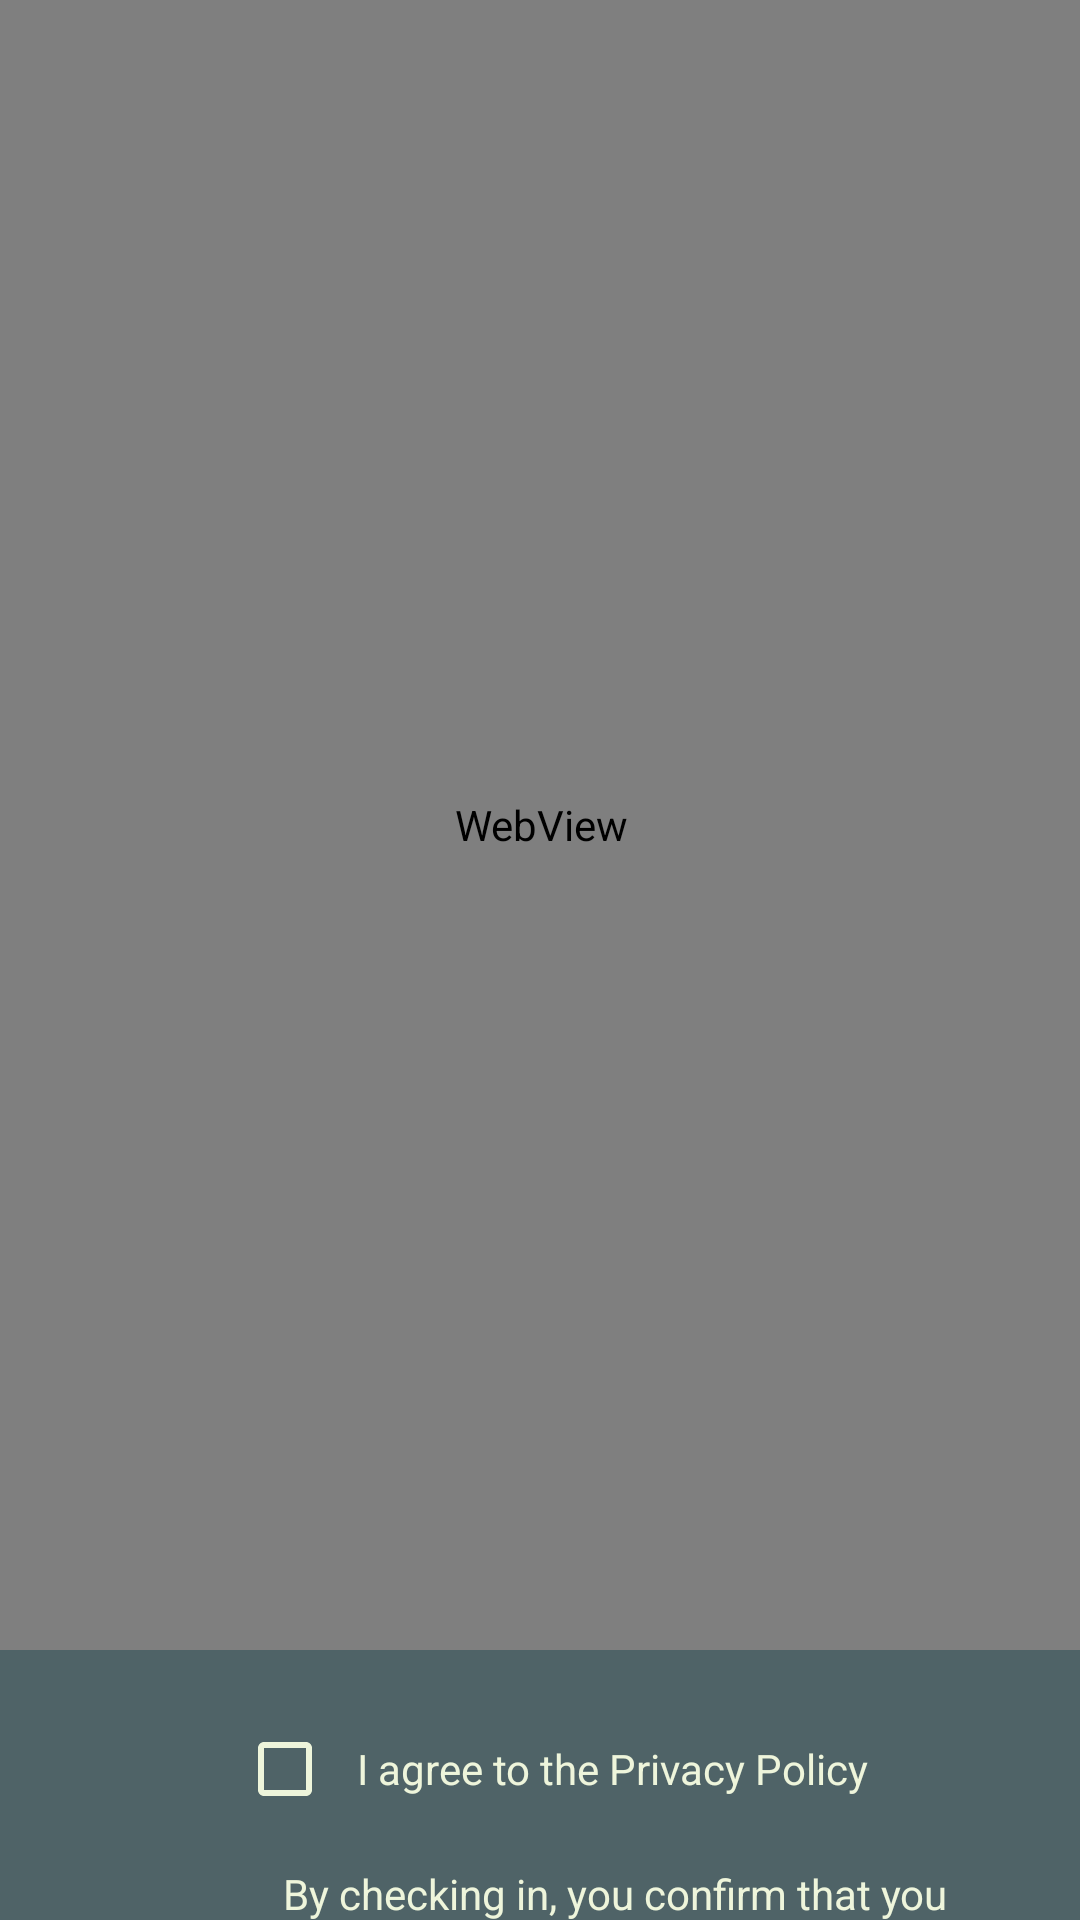

Locate icon controls on the screen. Image size 1080px x 1920px, boxes as (x1, y1, x2, y2).
check box blank: (258, 1742, 312, 1796)
